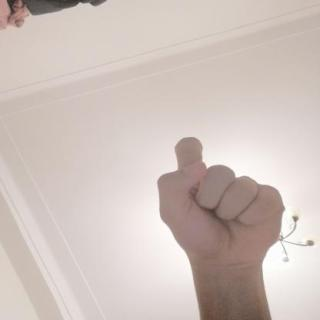FAA: (146, 129, 294, 277)
